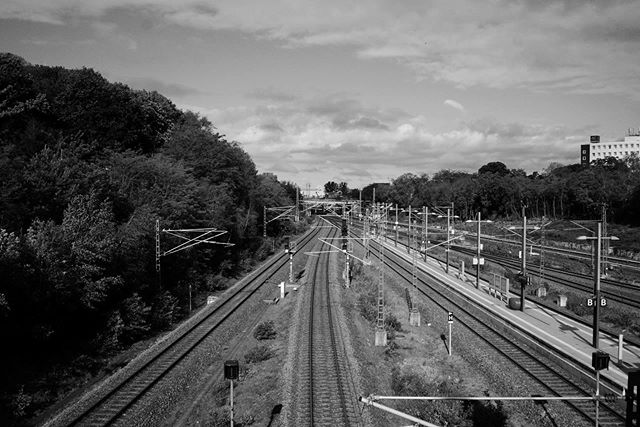building: (581, 134, 640, 175)
sky: (149, 2, 640, 167)
train track: (90, 225, 640, 427)
vegetation: (1, 98, 292, 326), (374, 171, 640, 220)
